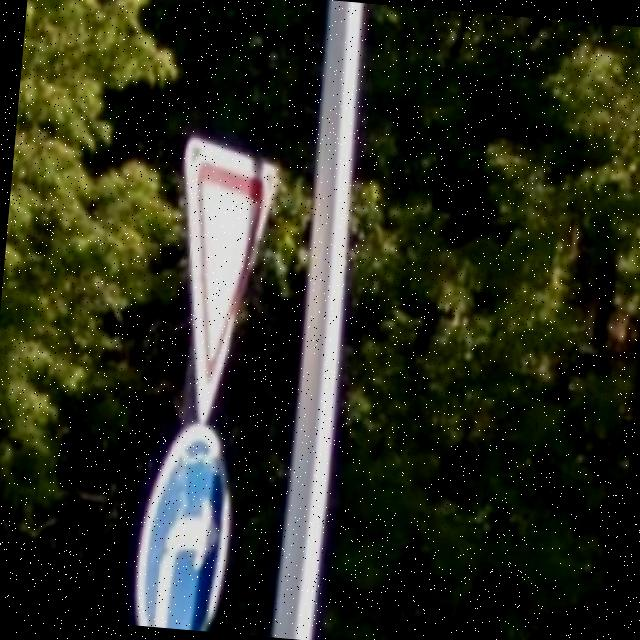Ustap pierwszenstwa: (160, 132, 283, 431)
